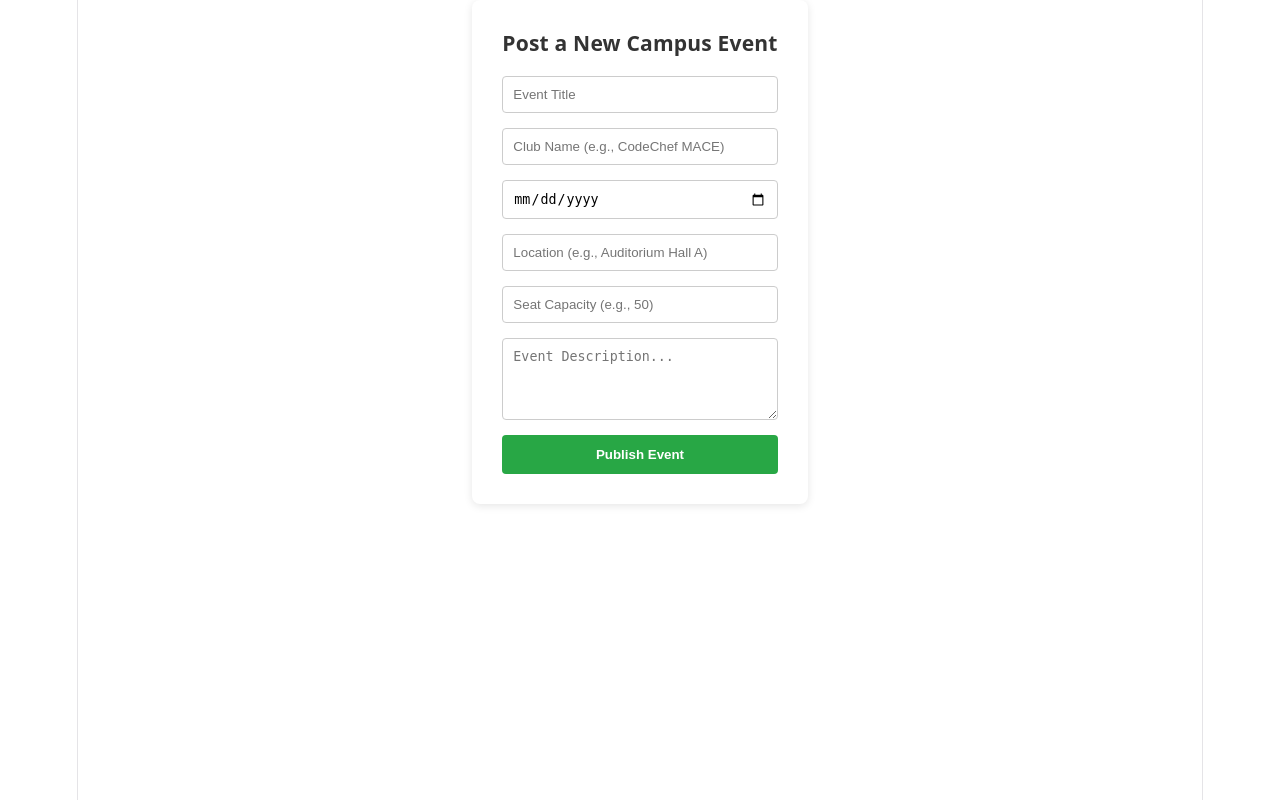
CreateEvent component › displays network error message when fetch rejects
The width and height of the screenshot is (1280, 800).
Type "AI Workshop" into the field with placeholder "Event Title" at (640, 95), box left=502, top=76, right=778, bottom=113
Type "Tech Club" into the field with placeholder "Club Name (e.g., CodeChef MACE)" at (640, 147), box left=502, top=128, right=778, bottom=165
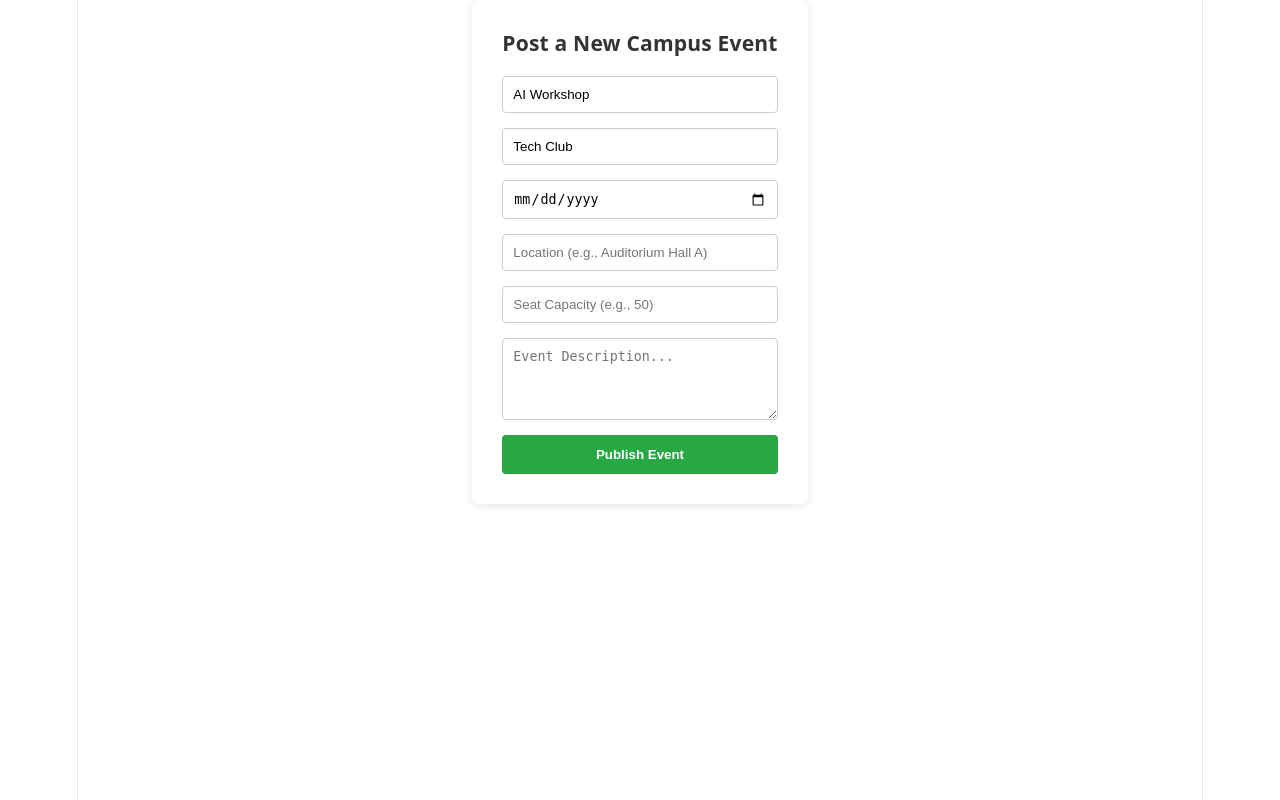
Type "2026-12-15" into the date field named "date" at (640, 200), box left=502, top=180, right=778, bottom=219
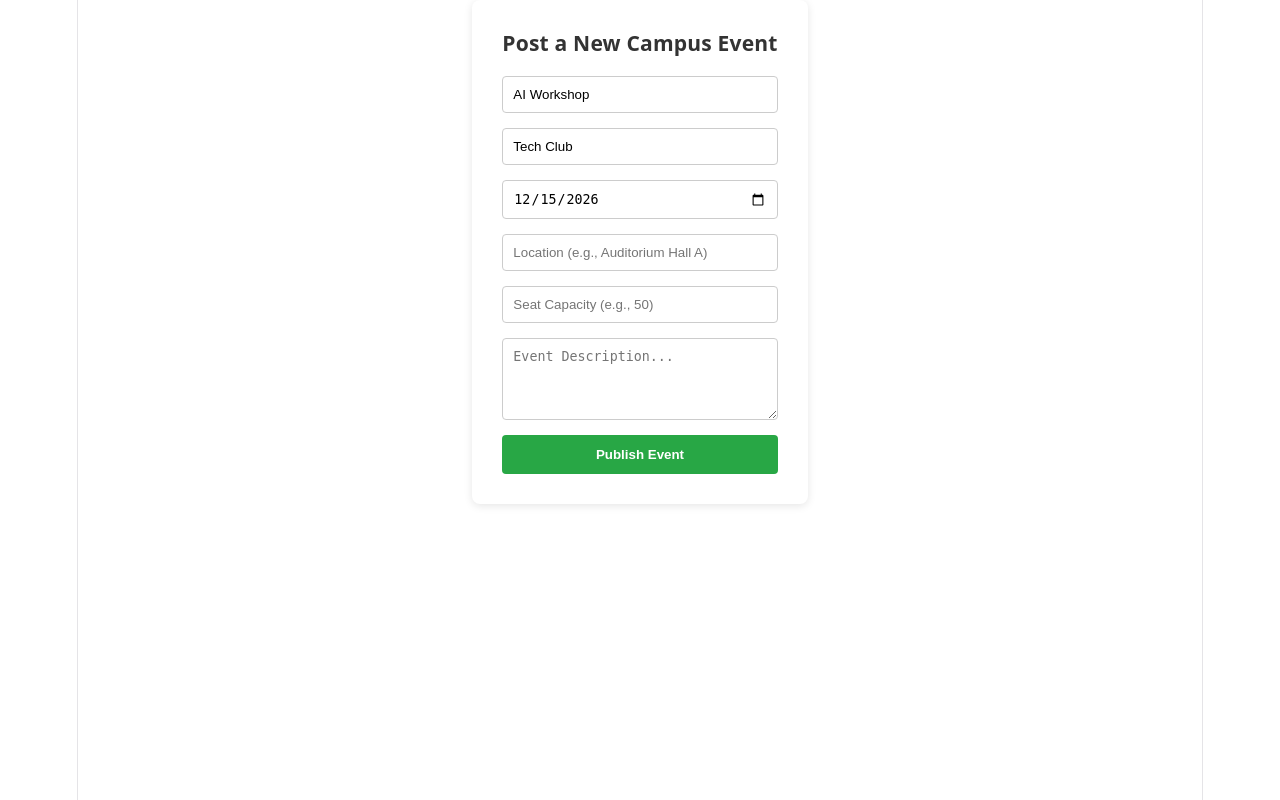
Type "Room 101" into the field with placeholder "Location (e.g., Auditorium Hall A)" at (640, 253), box left=502, top=234, right=778, bottom=271
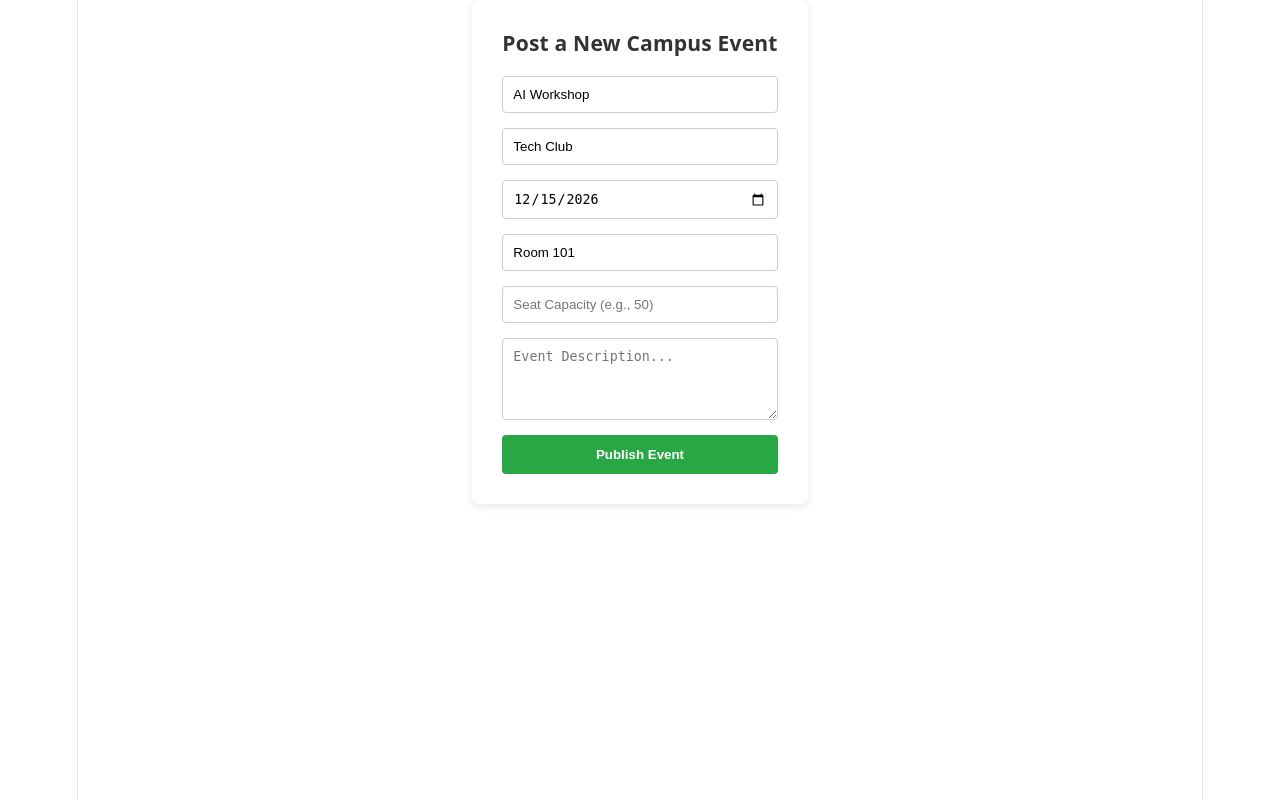
Type "50" into the number field with placeholder "Seat Capacity (e.g., 50)" at (640, 305), box left=502, top=286, right=778, bottom=323
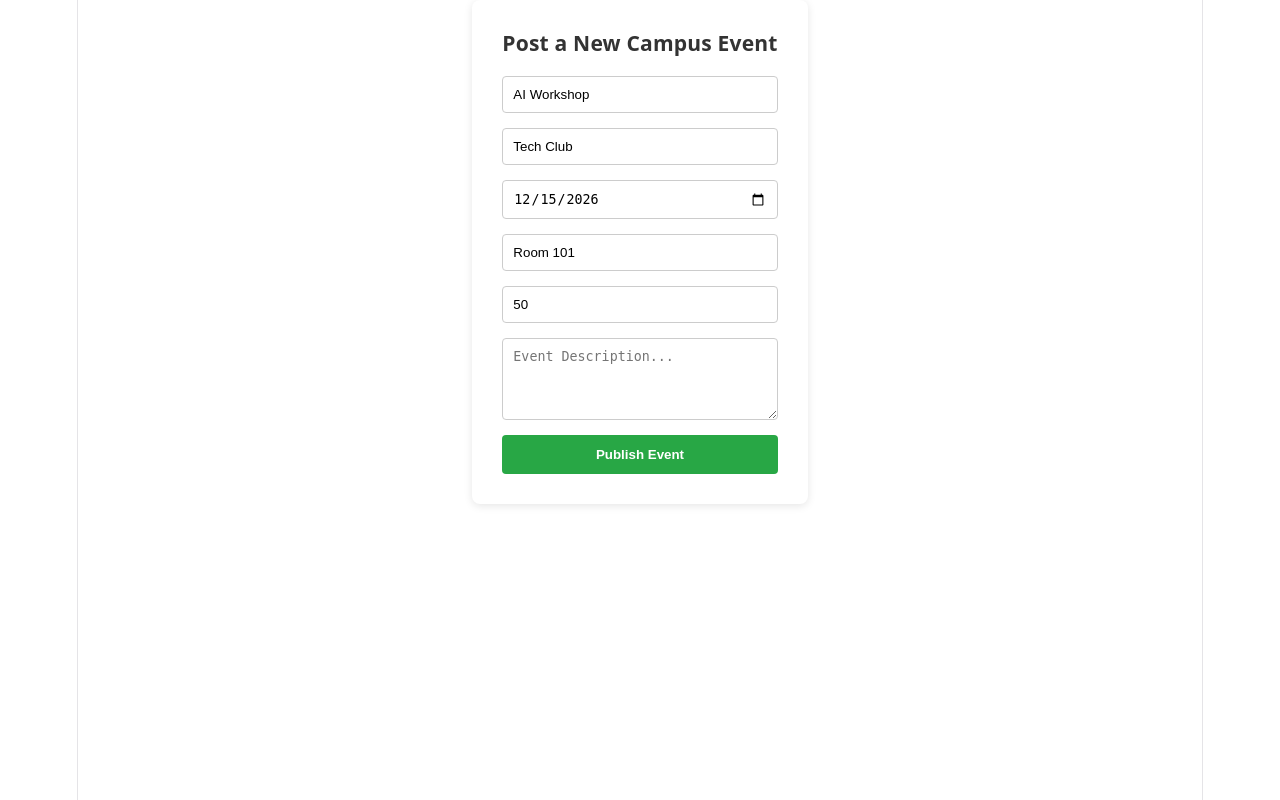
Type "Hands-on session on AI tools." into the text box with placeholder "Event Description..." at (640, 379), box left=502, top=338, right=778, bottom=420
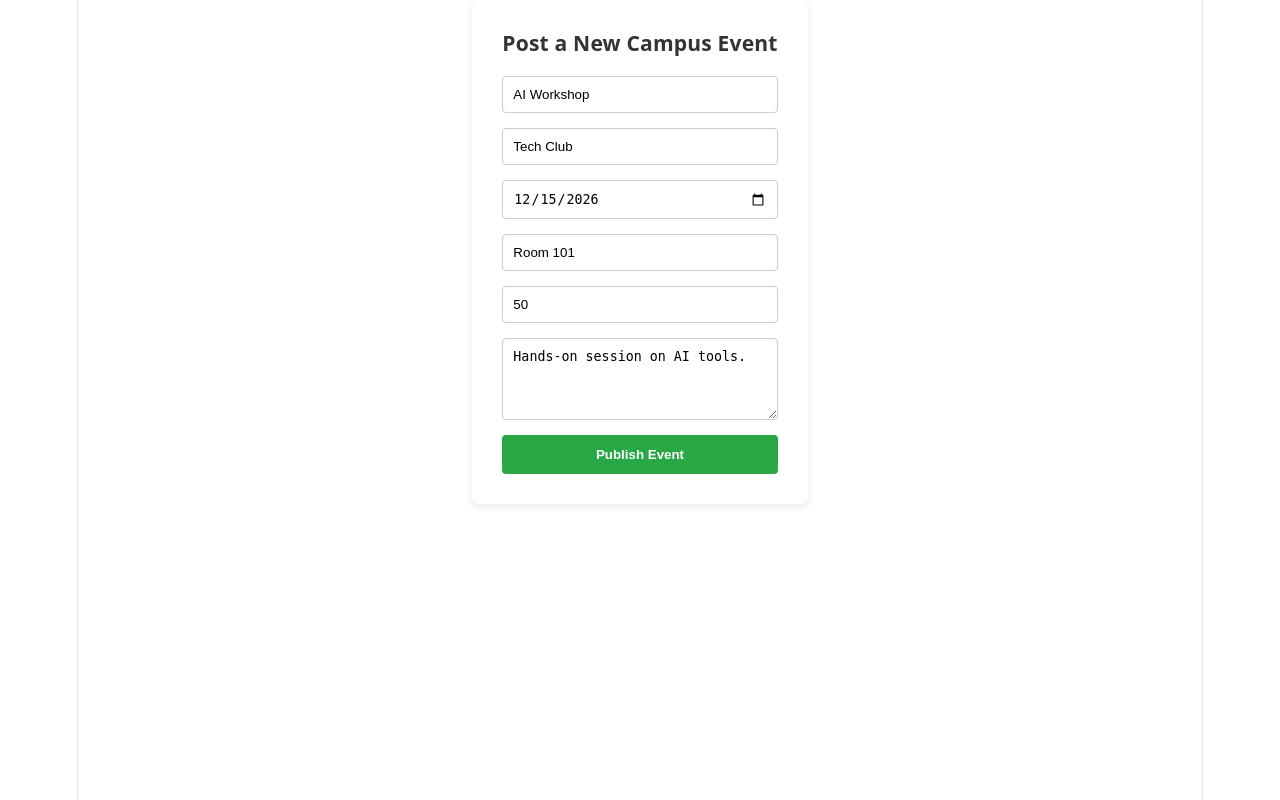
Click the button "Publish Event" at (640, 455), box left=502, top=435, right=778, bottom=474
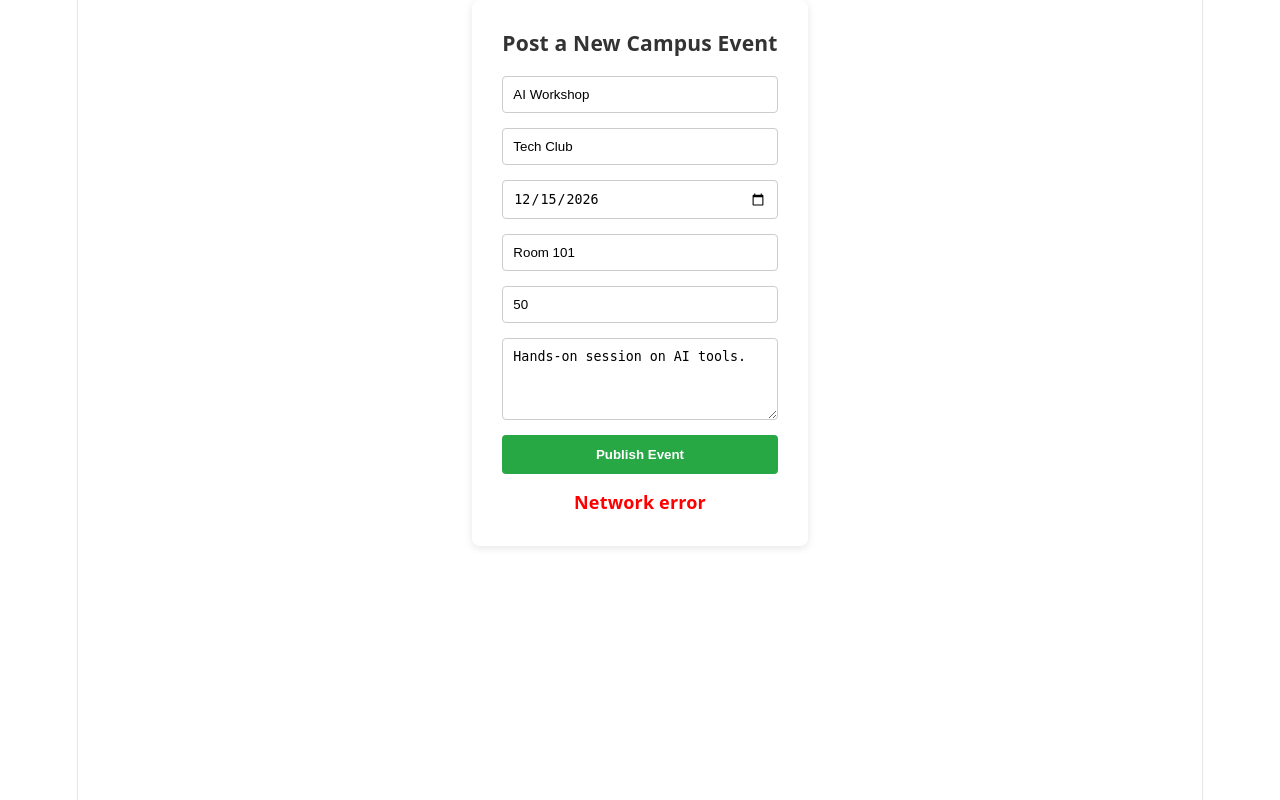
Result: the text "Network error" is shown at left=574, top=490, right=706, bottom=514
